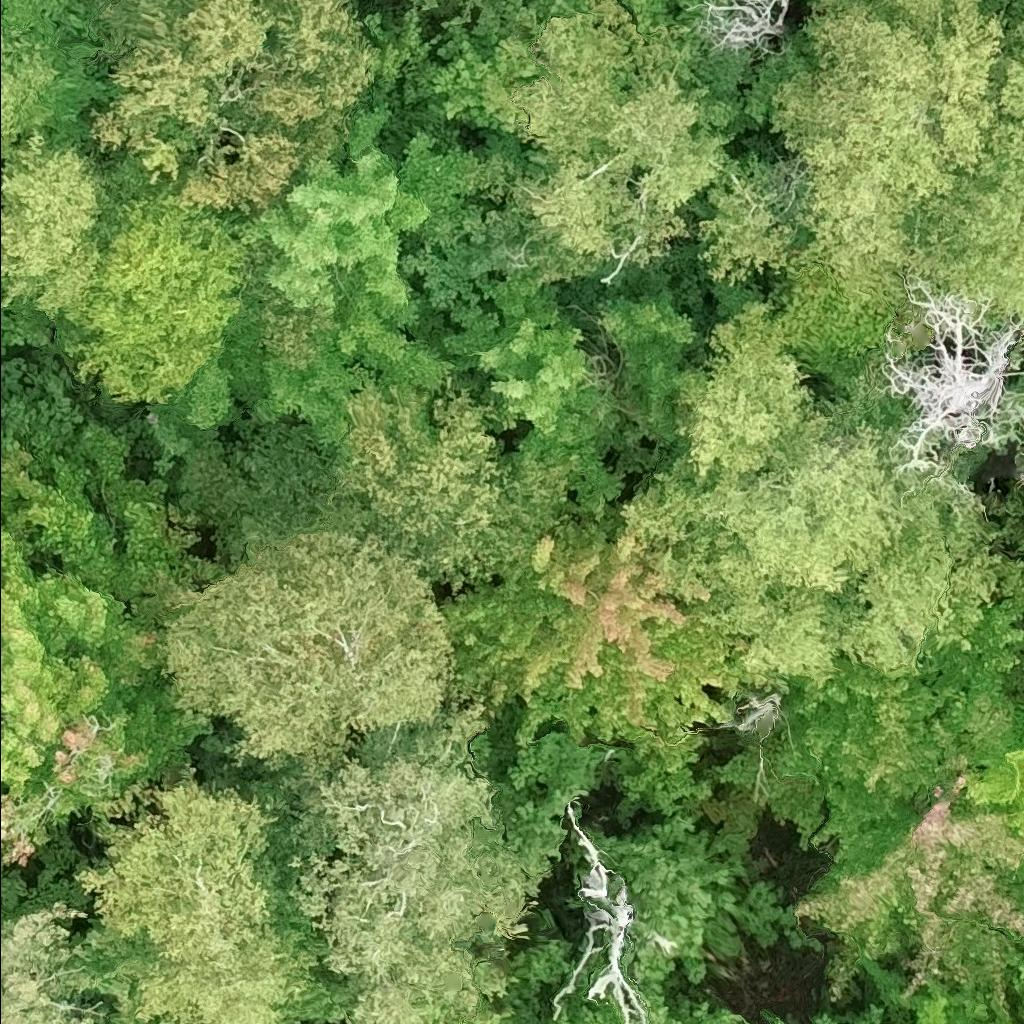crown: (1017, 958, 1023, 1015), (773, 1018, 785, 1023)
